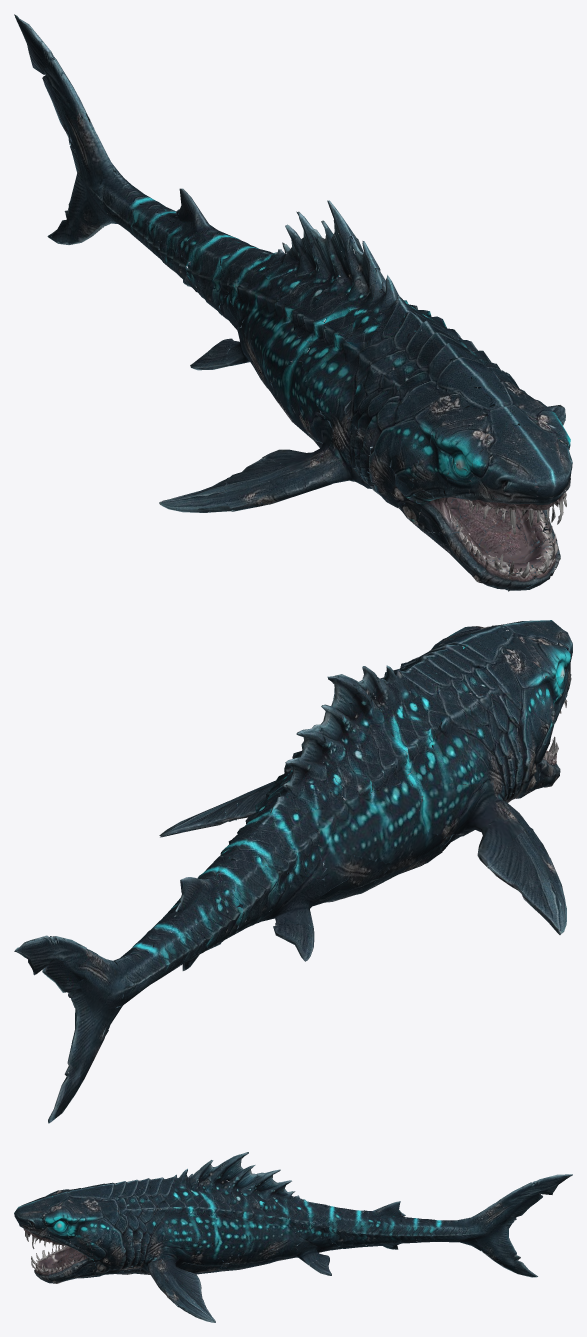
The model's file is abyssal-regular.glb.
3 renders of one model, top to bottom at view 1: azimuth 30°, elevation 25°; view 2: azimuth 150°, elevation 25°; view 3: azimuth 270°, elevation 25°, orthographic. The views are drawn at different scales.
Visible parts, largest first — view 1: AbyssalBody; view 2: AbyssalBody; view 3: AbyssalBody.
Boxes of the visible parts, x1,y1,x2,y2 form: AbyssalBody: (14,14,572,591); AbyssalBody: (14,620,572,1123); AbyssalBody: (14,1152,572,1322).
Bounding box in the file's own units: 0.8153 × 0.4732 × 1.9.
1 material, 1 textured.
